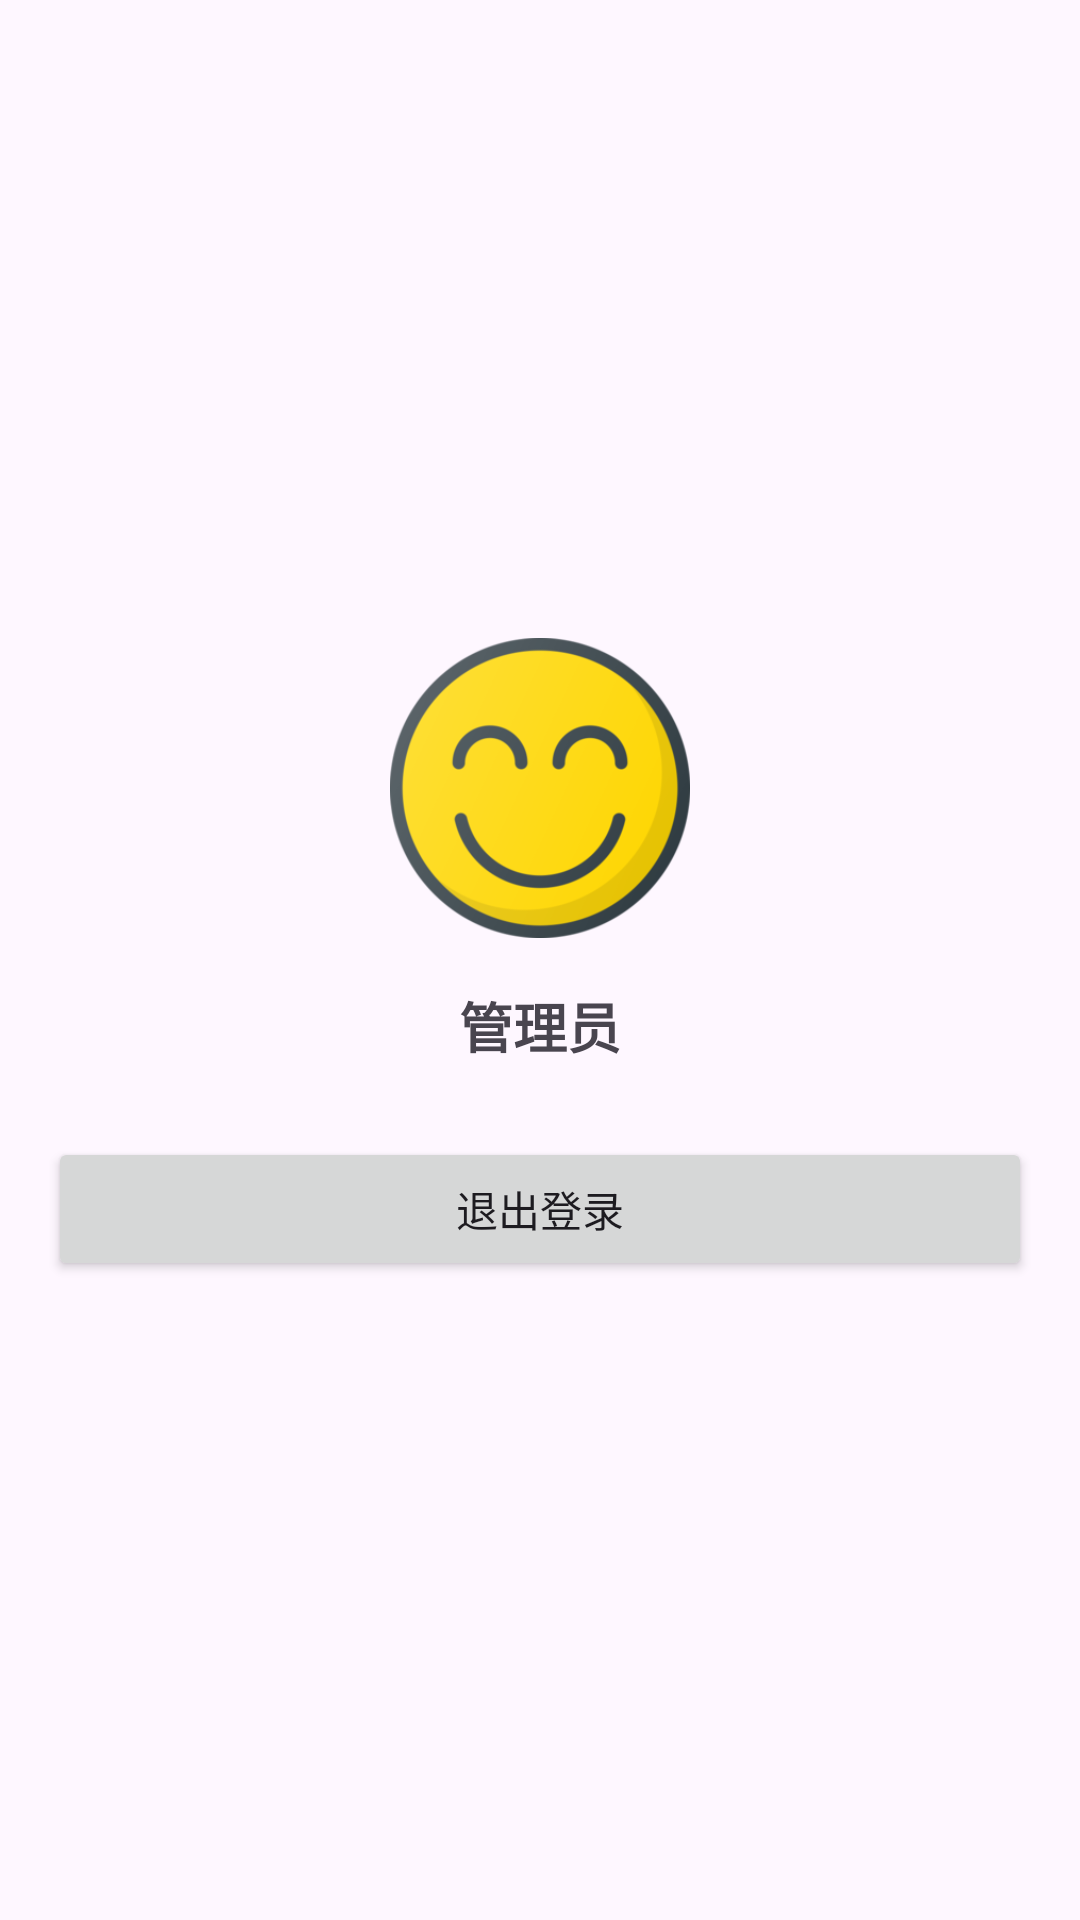

Named icons in this screenshot (1080*1920) and their centers, (x=x, y=y):
emoji: (x=540, y=788)
